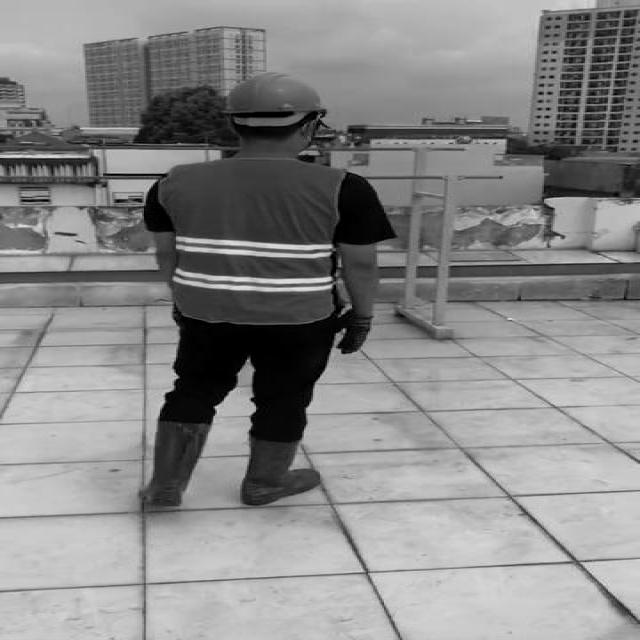boots: (139, 421, 213, 510), (238, 438, 322, 506)
hand_glove: (329, 314, 377, 353), (171, 303, 183, 332)
head_helmet: (224, 67, 327, 116)
person: (128, 66, 393, 511)
vest: (164, 159, 346, 323)
